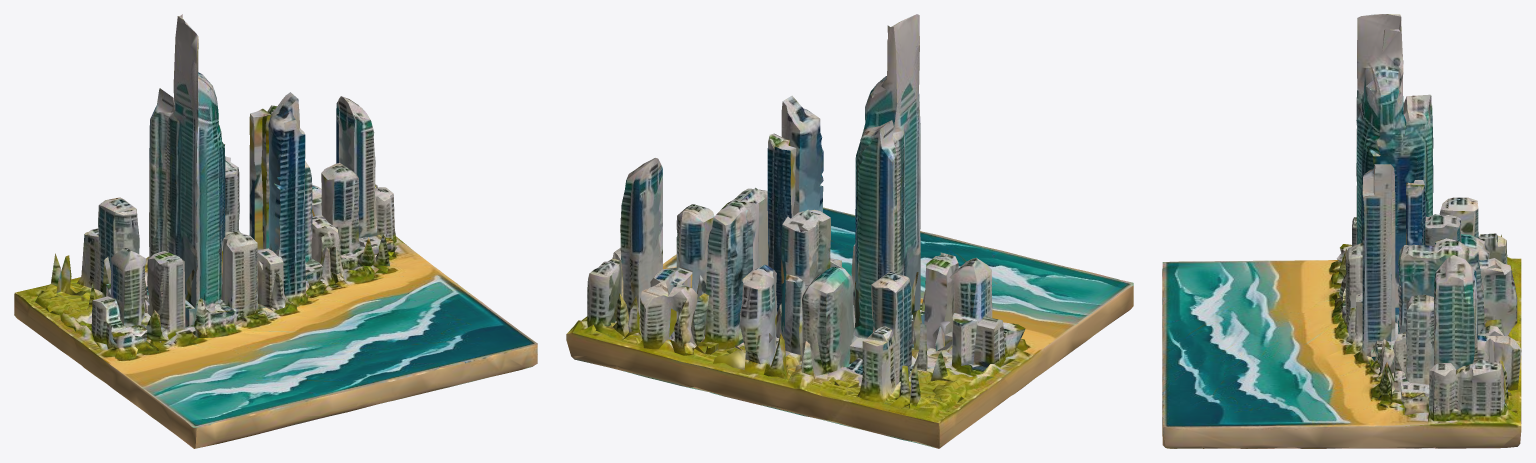
File: gold-coast.glb
The picture shows the model from 3 angles, left to right: view 1: azimuth 30°, elevation 25°; view 2: azimuth 150°, elevation 25°; view 3: azimuth 270°, elevation 25°; orthographic projection. The views are drawn at different scales.
Parts seen in each view (by area): view 1: logan-textured.obj; view 2: logan-textured.obj; view 3: logan-textured.obj.
Part boxes in pixels (x1,y1,x2,y2): logan-textured.obj: [14, 14, 537, 448]; logan-textured.obj: [566, 14, 1133, 448]; logan-textured.obj: [1162, 14, 1521, 448].
Size of the model in its own units: 1 by 0.8955 by 0.9117.
Materials: 1 (1 with a texture image).
